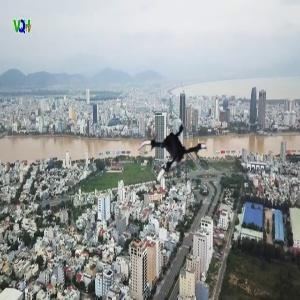drone: (138, 113, 214, 189)
